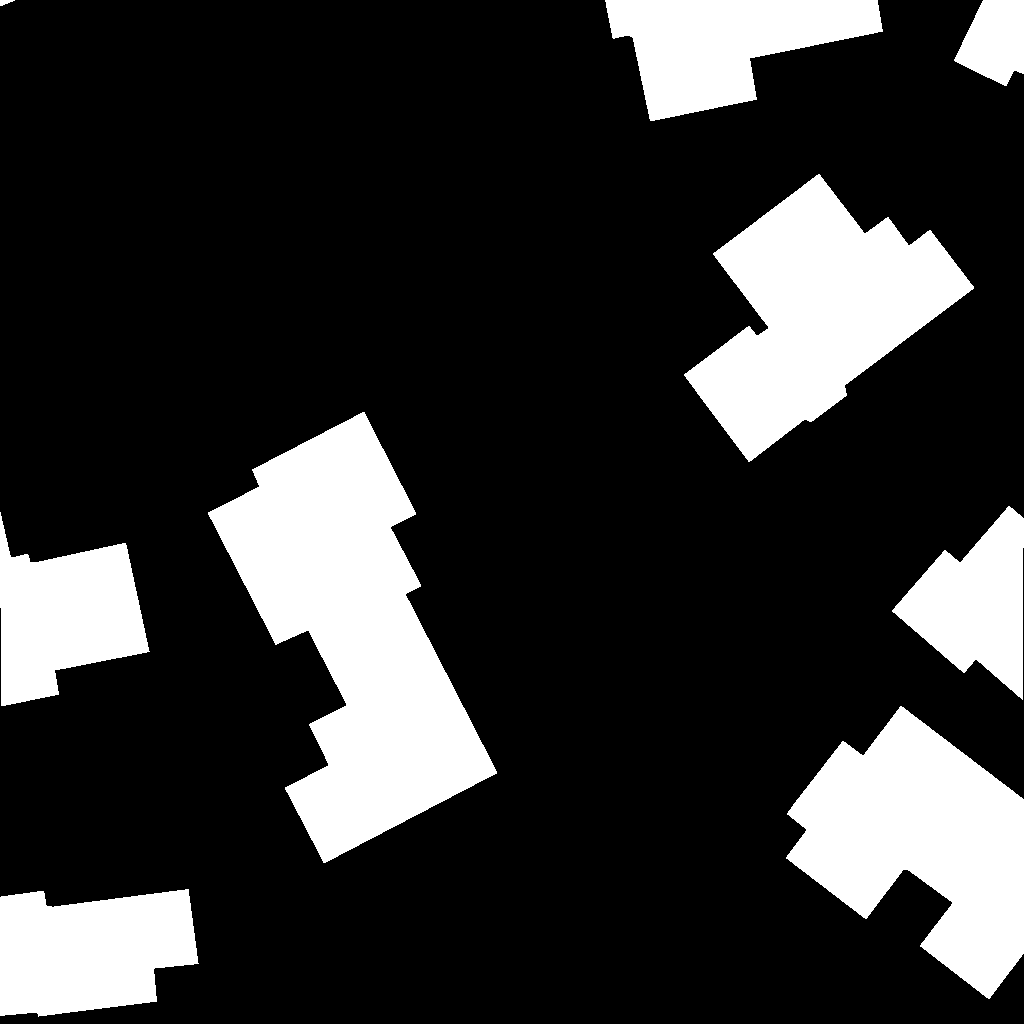building: (208, 412, 498, 864), (684, 174, 975, 463), (786, 706, 1024, 1000), (605, 0, 884, 122), (0, 510, 150, 707), (892, 506, 1024, 701), (0, 889, 199, 1017), (954, 0, 1024, 87), (0, 0, 17, 7)
